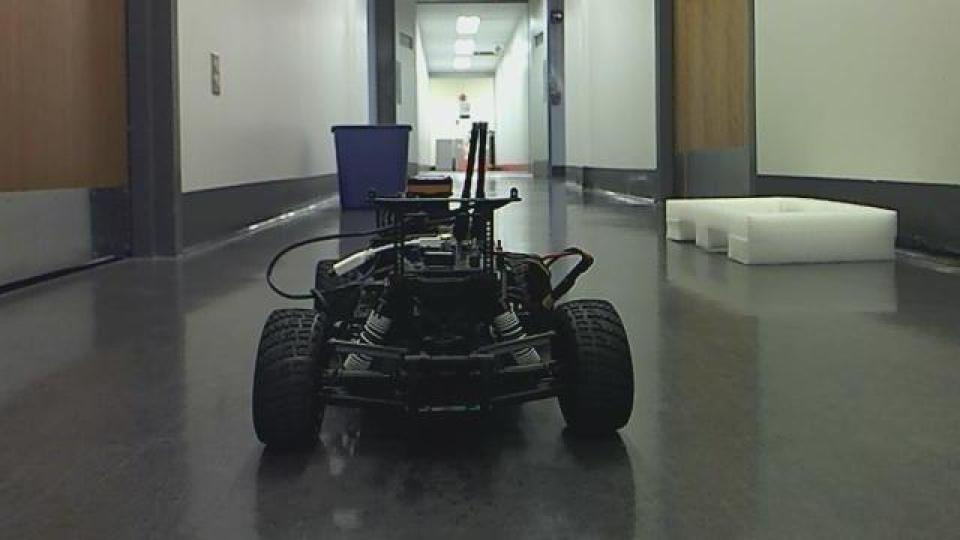car: (246, 114, 640, 440)
